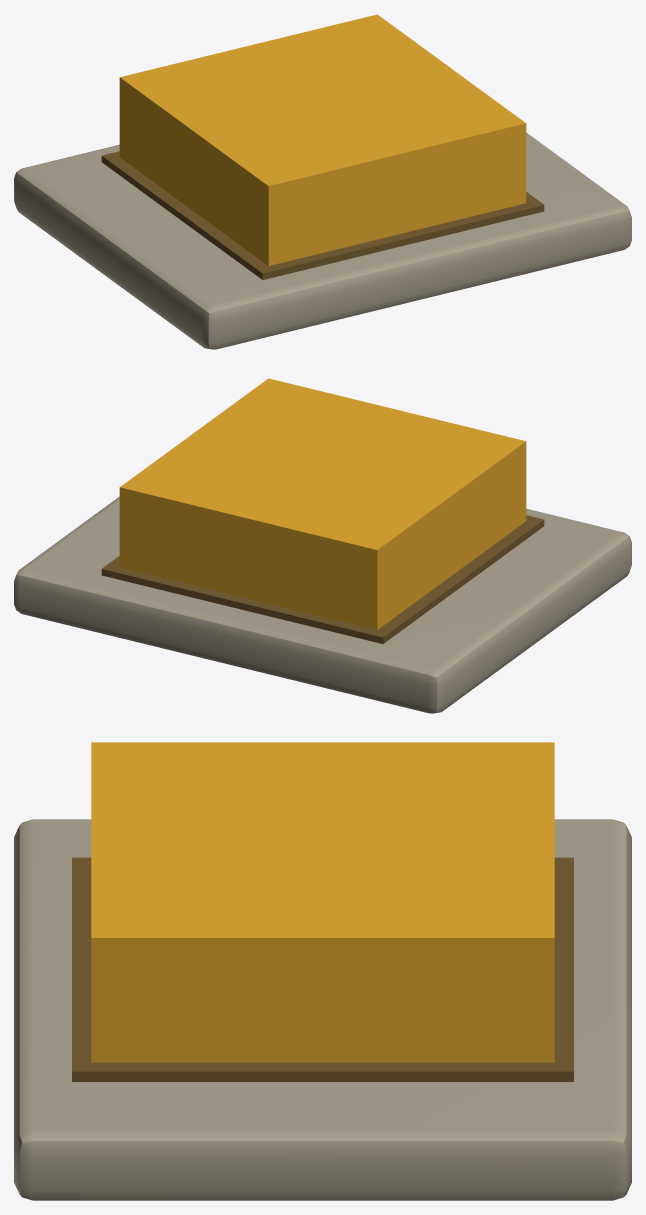
Rendered from boton.fbx.
3 renders of one model, top to bottom at view 1: azimuth 30°, elevation 25°; view 2: azimuth 150°, elevation 25°; view 3: azimuth 270°, elevation 25°, orthographic. The views are drawn at different scales.
Visible parts, largest first — view 1: pCube1, Plancha, pCube2; view 2: pCube1, Plancha, pCube2; view 3: pCube1, Plancha, pCube2.
Boxes of the visible parts, bbox=[...] form: pCube1: bbox=[119, 14, 526, 265]; Plancha: bbox=[14, 132, 631, 349]; pCube2: bbox=[101, 151, 544, 279]; pCube1: bbox=[119, 378, 526, 629]; Plancha: bbox=[14, 496, 631, 713]; pCube2: bbox=[101, 515, 544, 643]; pCube1: bbox=[91, 742, 554, 1062]; Plancha: bbox=[14, 819, 631, 1200]; pCube2: bbox=[72, 857, 573, 1081].
Bounding box in the file's own units: 5 × 1.46 × 4.
